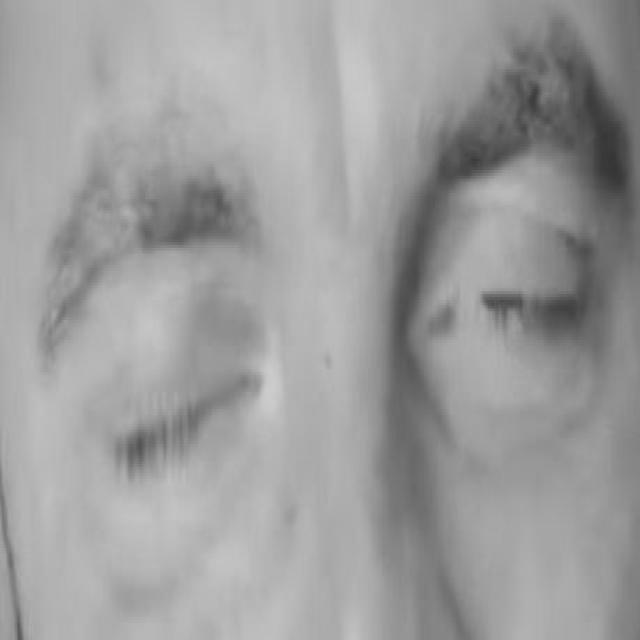real: (73, 120, 608, 572)
